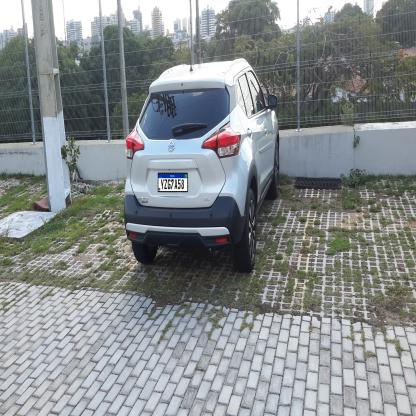PlacaM: (158, 173, 188, 192)
